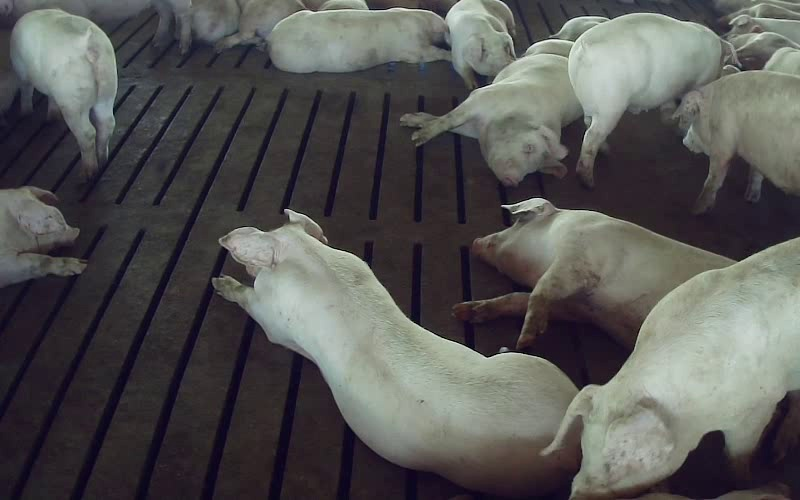pig: (213, 210, 575, 494), (544, 238, 799, 499), (453, 198, 733, 348), (568, 13, 735, 186), (401, 40, 582, 185), (10, 9, 116, 178), (674, 71, 799, 213), (267, 8, 450, 72)
